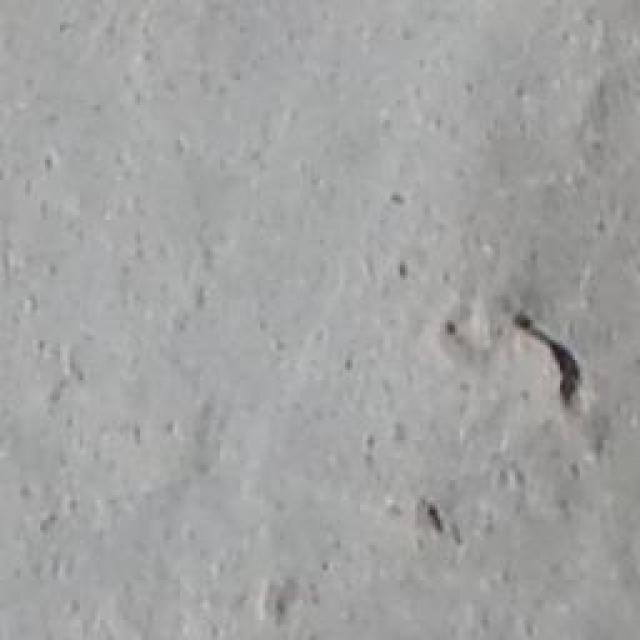concrete-crack: (515, 315, 588, 400)
